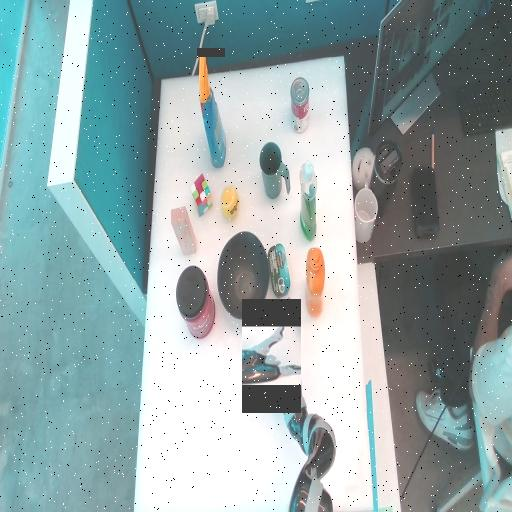bowl: (218, 232, 268, 318)
cleanser: (300, 161, 316, 241)
coffee_can: (176, 267, 214, 338)
jaco: (242, 327, 301, 384)
meat_can: (267, 244, 289, 298)
mug: (259, 143, 289, 199)
mustard_bottle: (305, 273, 324, 292)
rubik: (190, 185, 212, 207)
soup_can: (291, 78, 308, 133)
tennis_ball: (221, 195, 238, 212)
windex: (197, 99, 225, 121)
wooden_block: (170, 219, 195, 244)
workspace: (135, 57, 372, 509)
